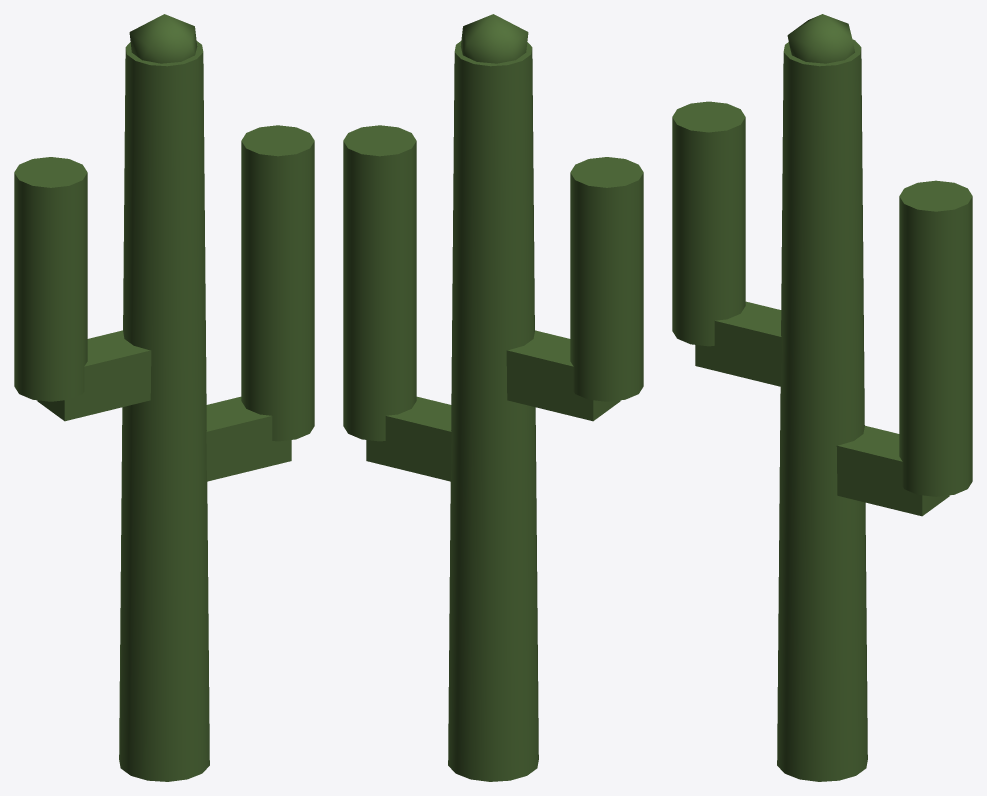
The model's file is cactus.glb.
The picture shows the model from 3 angles, left to right: view 1: azimuth 30°, elevation 25°; view 2: azimuth 150°, elevation 25°; view 3: azimuth 330°, elevation 25°; orthographic projection.
Parts seen in each view (by area): view 1: cactus_M_Cactus; view 2: cactus_M_Cactus; view 3: cactus_M_Cactus.
Part boxes in pixels (x1,y1,x2,y2): cactus_M_Cactus: [14, 14, 314, 781]; cactus_M_Cactus: [343, 14, 643, 781]; cactus_M_Cactus: [672, 14, 972, 781].
Size of the model in its own units: 2.56 by 6.3 by 0.7.
